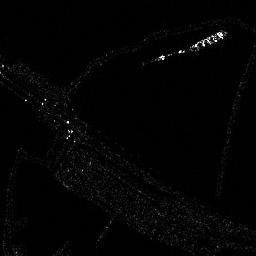ship: (188, 28, 229, 53)
